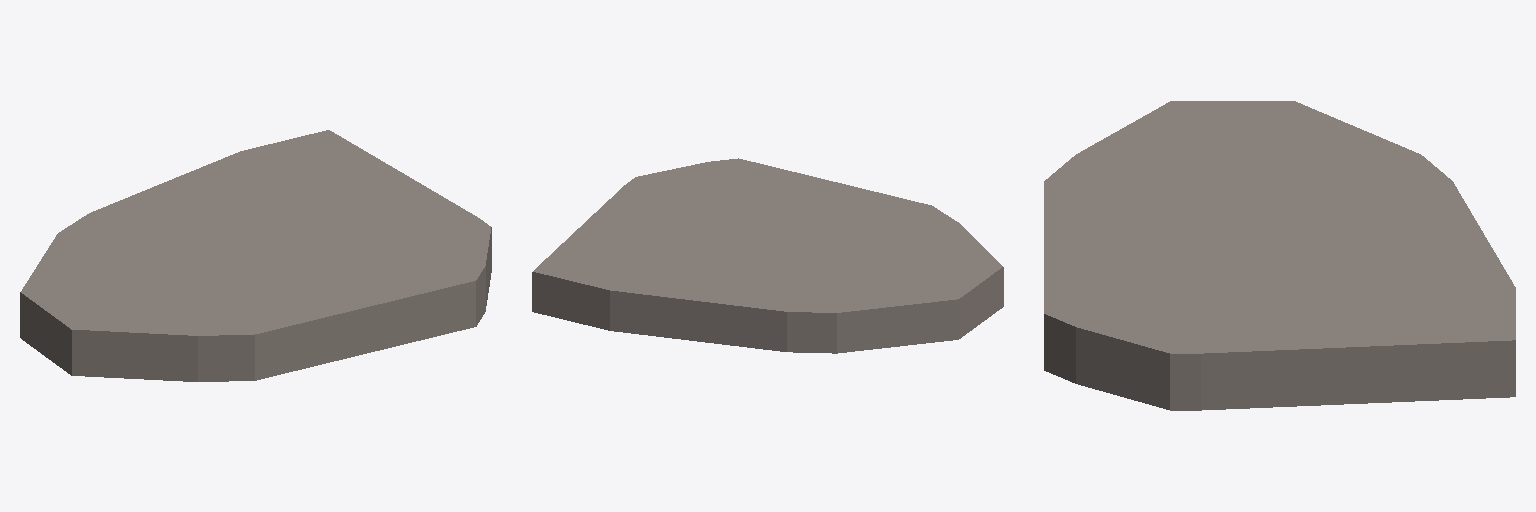
The robot description file, URDF, robot "table":
<?xml version="1.0"?>
<robot name="table">
  <!-- The table top of Coffee mug: a static convex slab, top face at z = 0. Load with a fixed base -->
  <mujoco>
    <compiler meshdir="../meshes/" discardvisual="true" balanceinertia="true" fusestatic="false" />
  </mujoco>
  <link name="table">
    <inertial>
      <mass value="20" />
      <inertia ixx="1" ixy="0" ixz="0" iyy="1" iyz="0" izz="1" />
    </inertial>
    <visual>
      <geometry>
        <mesh filename="../meshes/table.obj" />
      </geometry>
      <material name="table_color">
        <color rgba="0.608 0.573 0.549 1" />
      </material>
    </visual>
    <collision>
      <geometry>
        <mesh filename="../meshes/table.obj" />
      </geometry>
    </collision>
    <contact>
      <lateral_friction value="1" />
    </contact>
  </link>
</robot>

--- Facts derived from the render (not from the file) ---
The picture shows the robot from 3 angles, left to right: view 1: azimuth 30°, elevation 25°; view 2: azimuth 150°, elevation 25°; view 3: azimuth 270°, elevation 25°; orthographic projection.
Robot: table — 1 links, 0 joints (none); root link table; default pose: all joints at 0.
Visible links, largest first — view 1: table; view 2: table; view 3: table.
Link boxes in pixels (x1,y1,x2,y2): table: (20,130,491,381); table: (532,158,1003,353); table: (1044,101,1515,410).
Size in the robot's own frame: 0.38 by 0.3 by 0.04 metres.
1 mesh visuals loaded from 1 distinct referenced files (1 OBJ).
